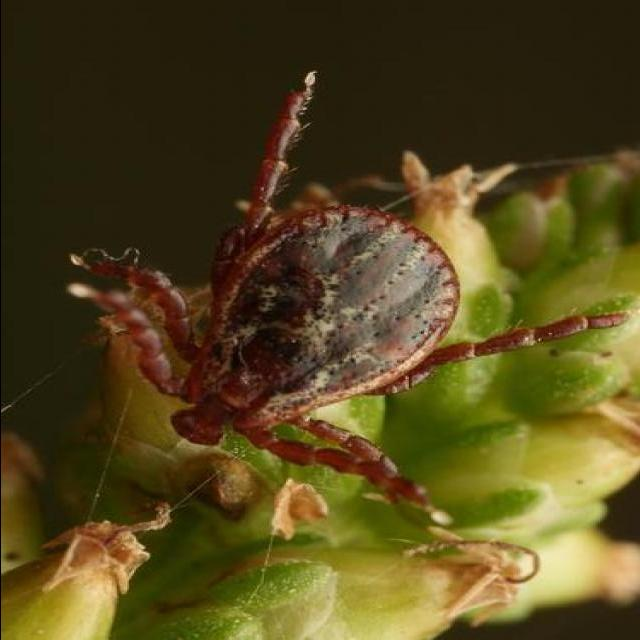Dermacentor Reticulatus-M: (63, 74, 628, 520)
